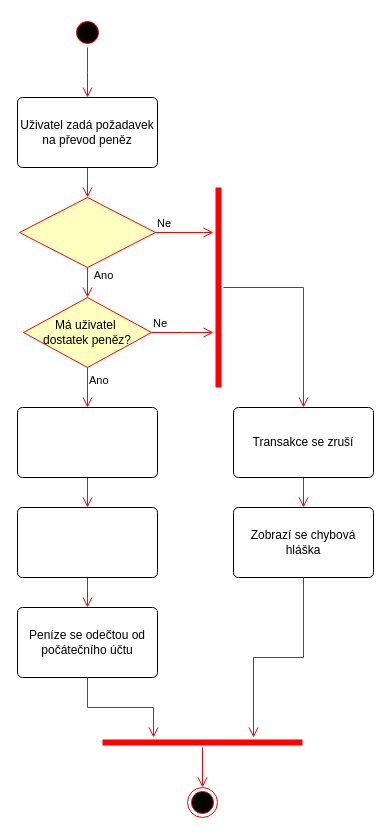
The diagram is 391 pixels wide and 835 high, and some of its shapes have lost their labels. Each missing label, with the centre of its shape:
Existuje cílový účet?: (x=87, y=232)
Peníze se přičtou cílovému účtu: (x=87, y=542)
Transakce se zanese do databáze: (x=87, y=442)
